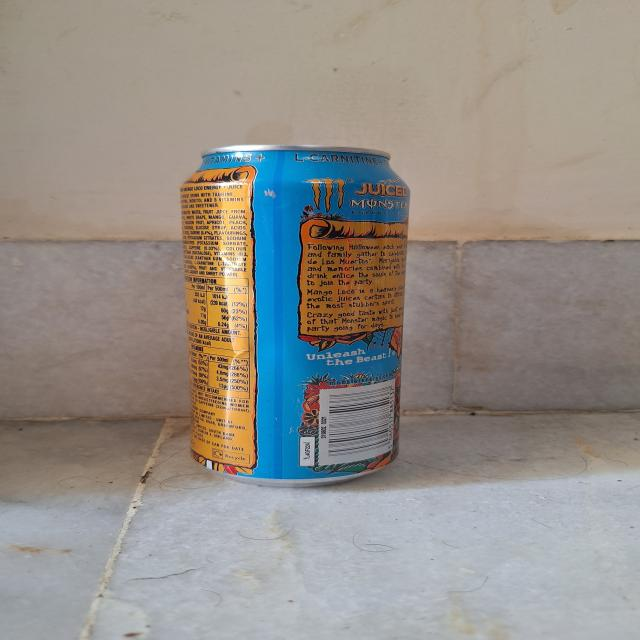Monster Mango Loco: (150, 130, 420, 492)
